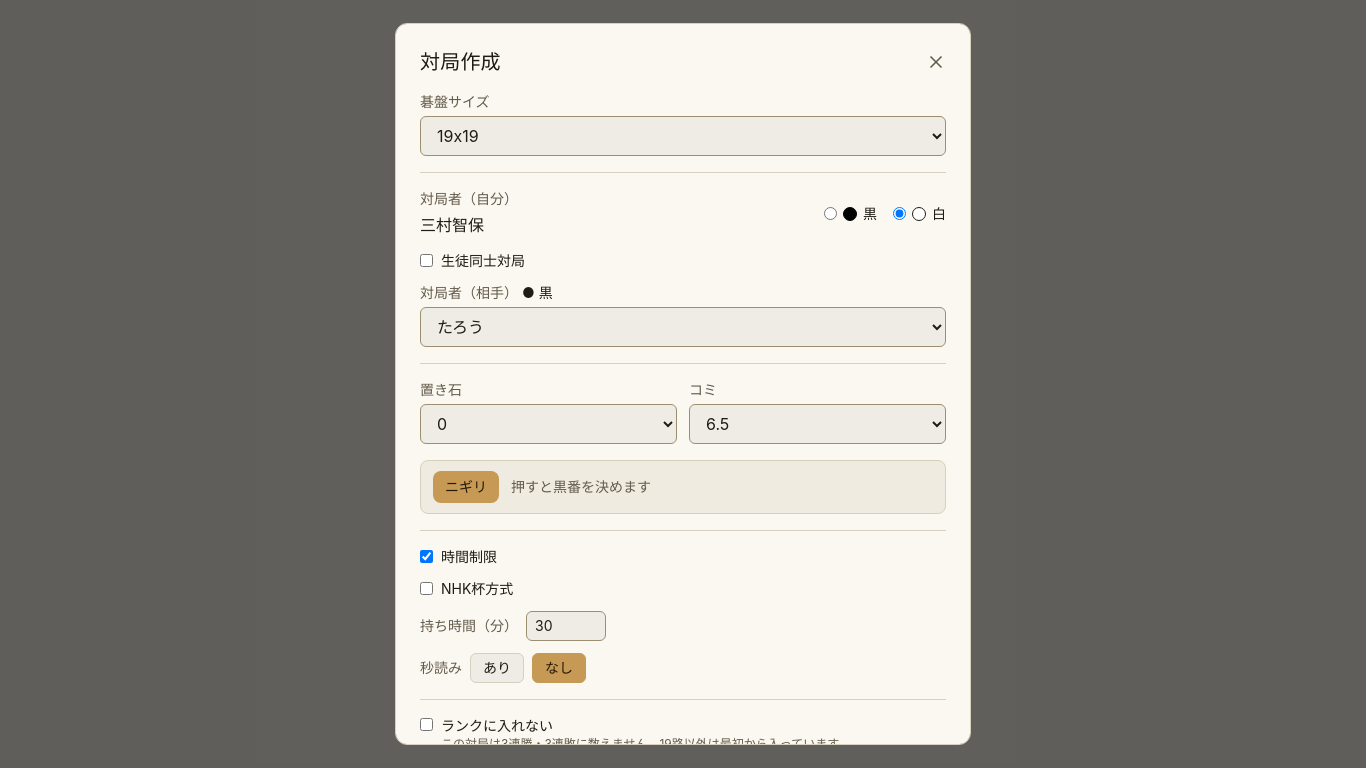
Test: GameCreationDialog › 置き石とコミの連動 › 互先に戻すと、コミが 6.5 に戻る
Select "3" in the dropdown with test id "handicap-select". click: (548, 424)
box: x1=420 y1=404 x2=677 y2=444
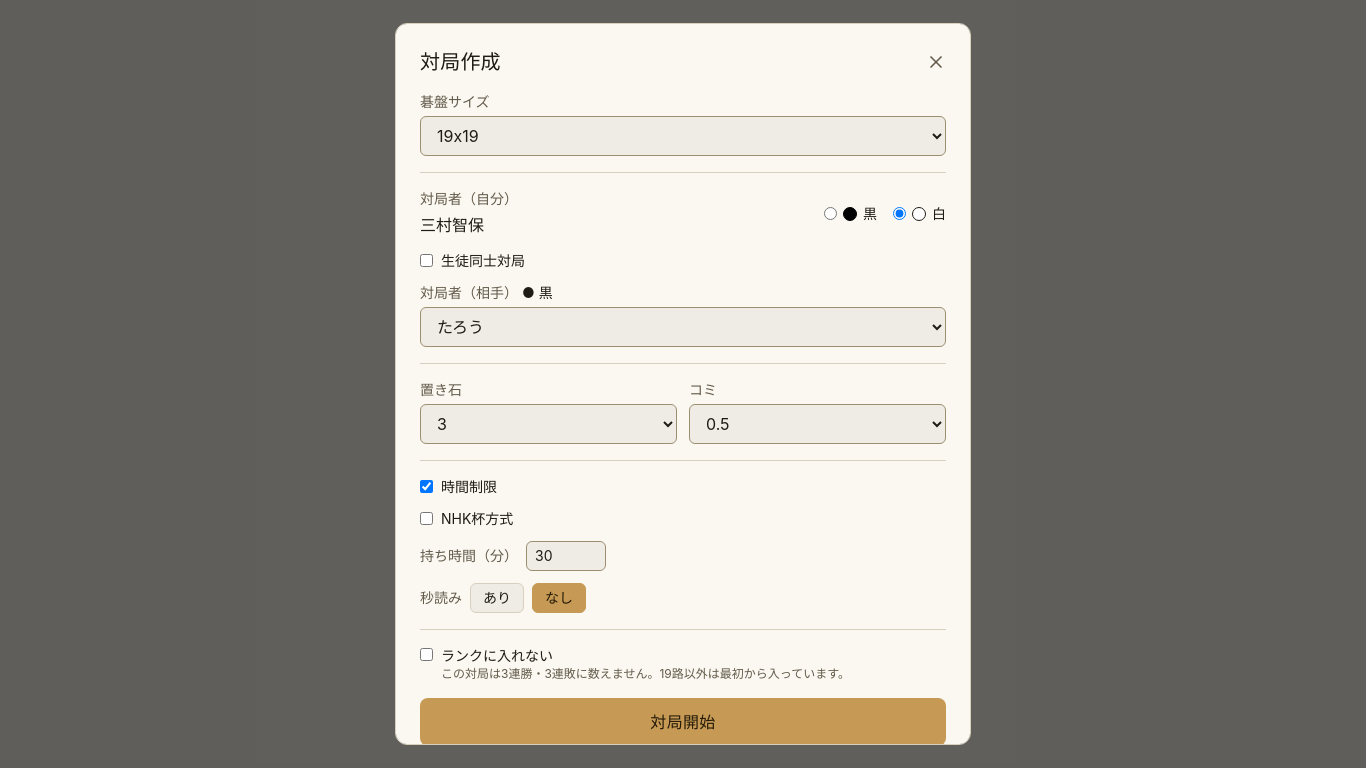
Expected: the dropdown with test id "komi-select" shows "0.5", x1=689 y1=404 x2=946 y2=444
Select "0" in the dropdown with test id "handicap-select". click: (548, 424)
box: x1=420 y1=404 x2=677 y2=444
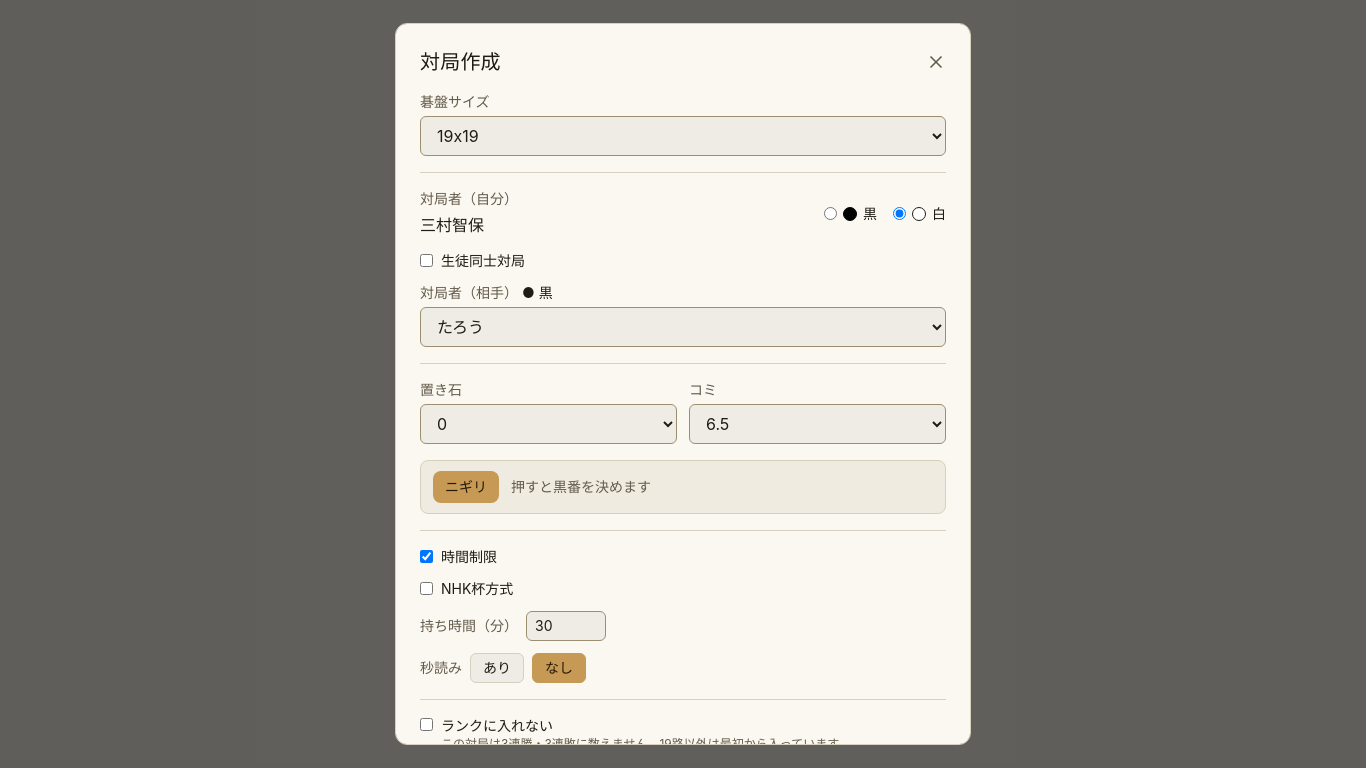
Expected: the dropdown with test id "komi-select" shows "6.5", x1=689 y1=404 x2=946 y2=444
